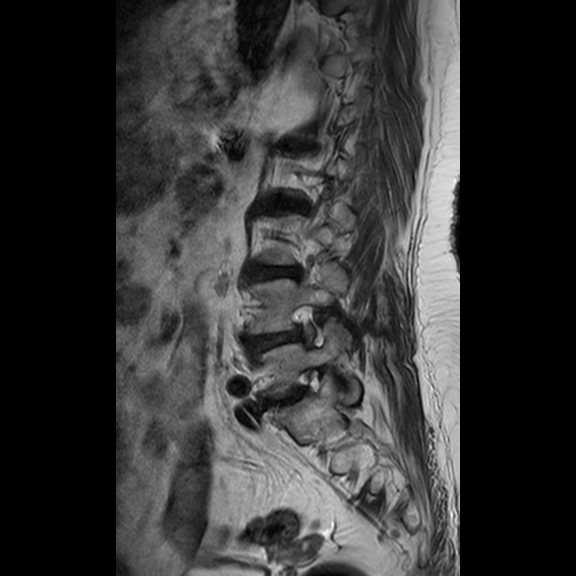LFS1: (285, 294, 332, 355), (290, 358, 335, 412)
